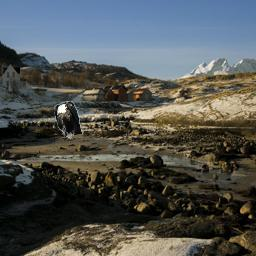Crow: (54, 100, 83, 140)
